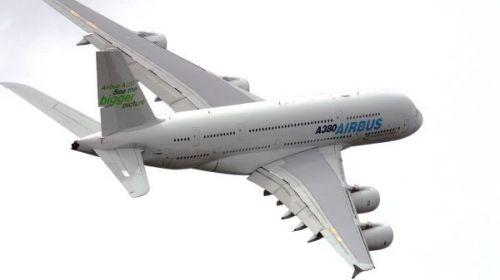airplane: (4, 1, 424, 277)
